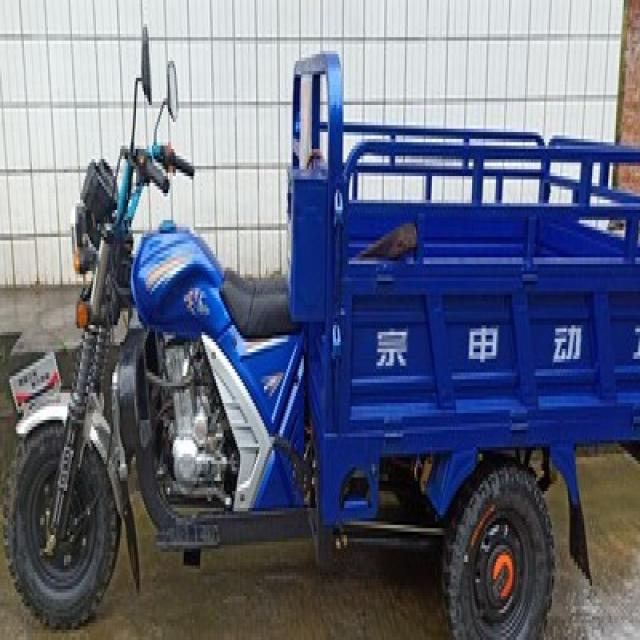tricycle: (3, 21, 637, 634)
